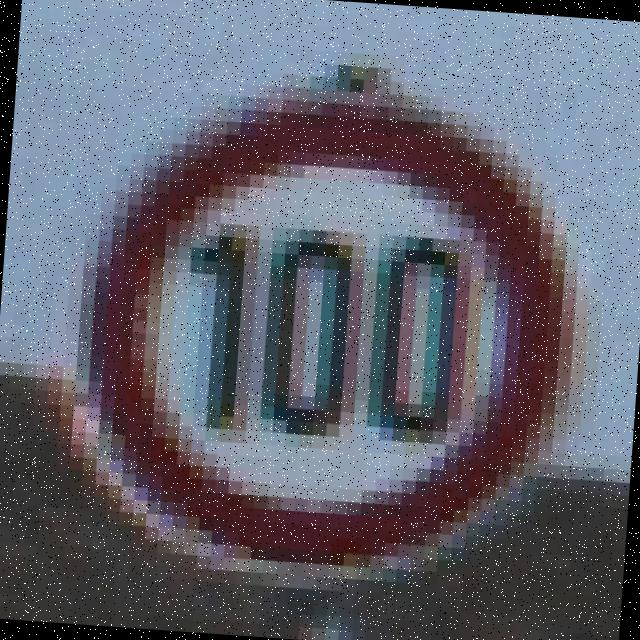Ograniczenie predkosci do 100: (74, 92, 584, 583)
